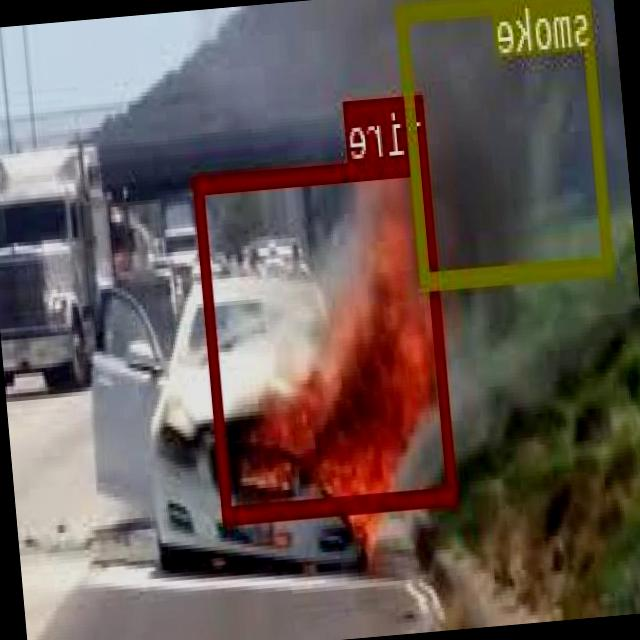fire: (193, 152, 460, 520)
smoke: (398, 0, 613, 287)
